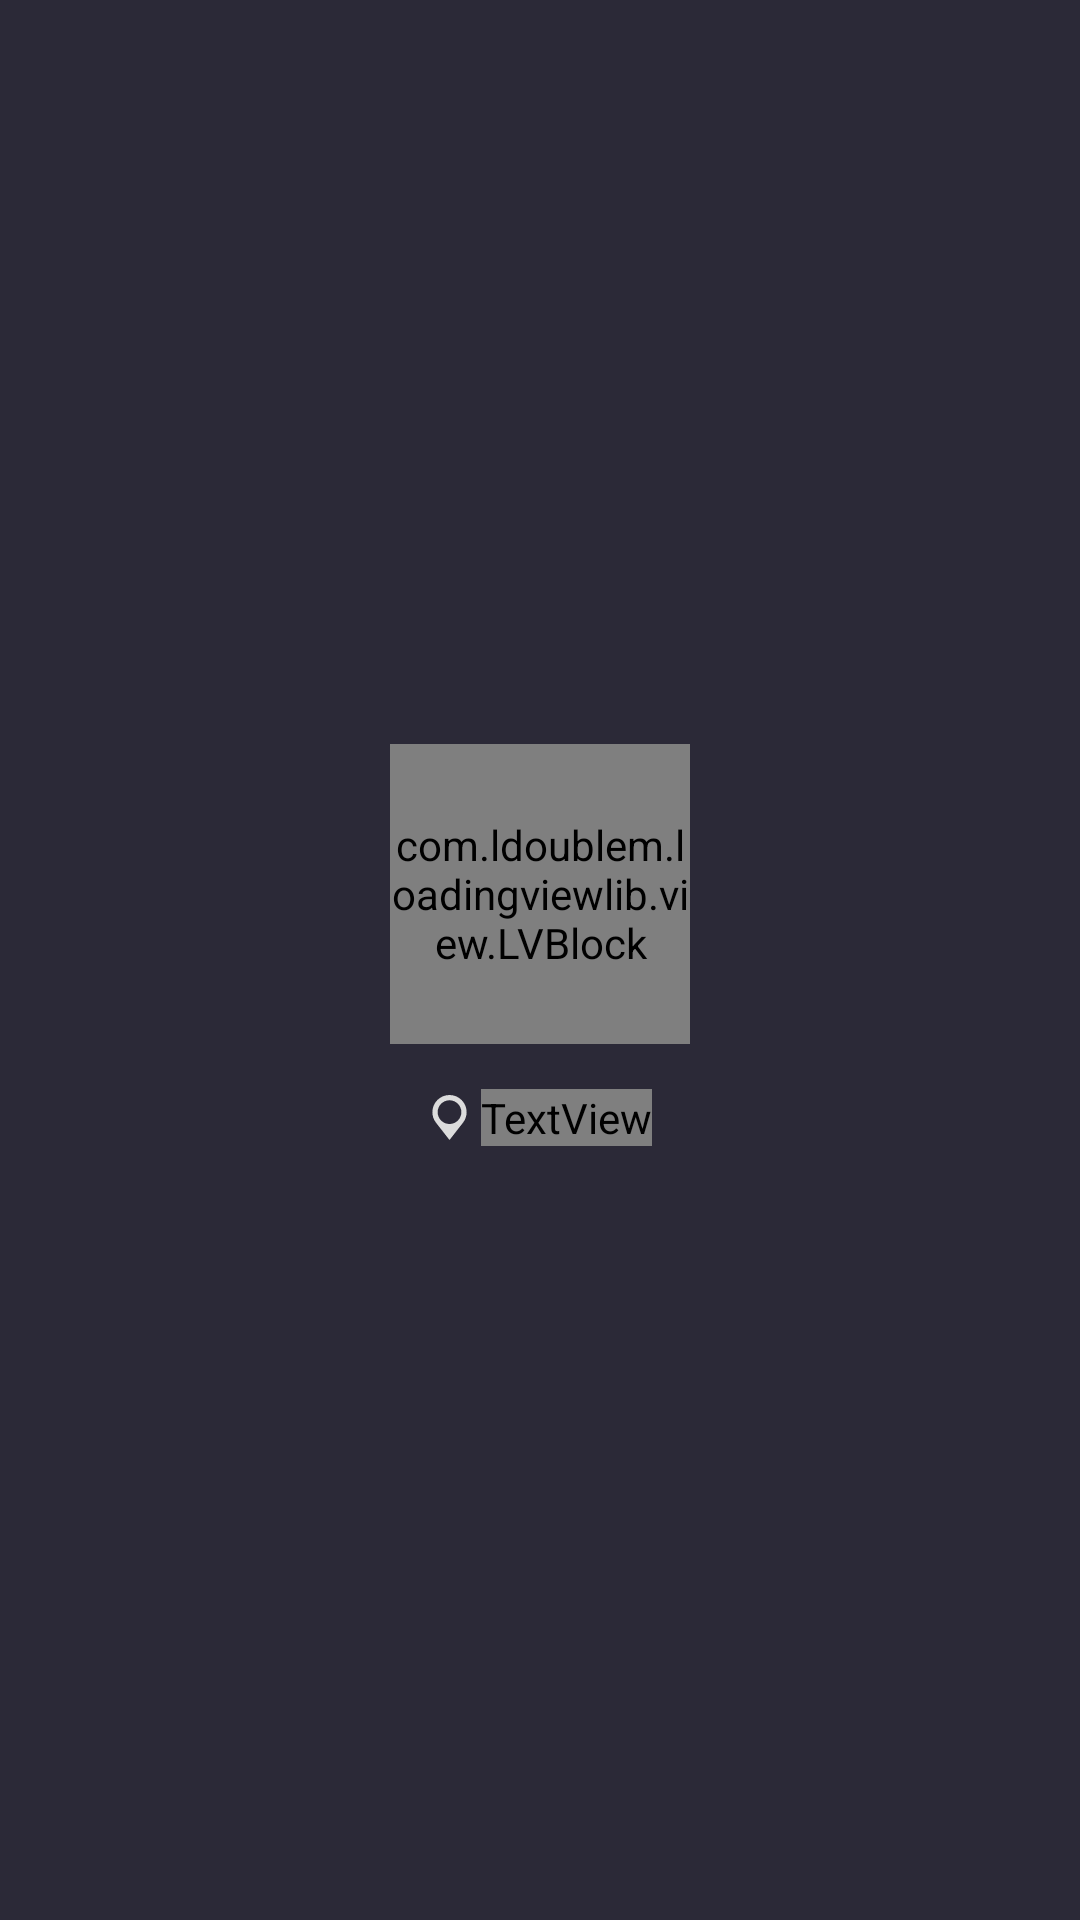

Named icons in this screenshot (1080w x 1920h) and their centers, [x,y]:
location: [449,1117]
